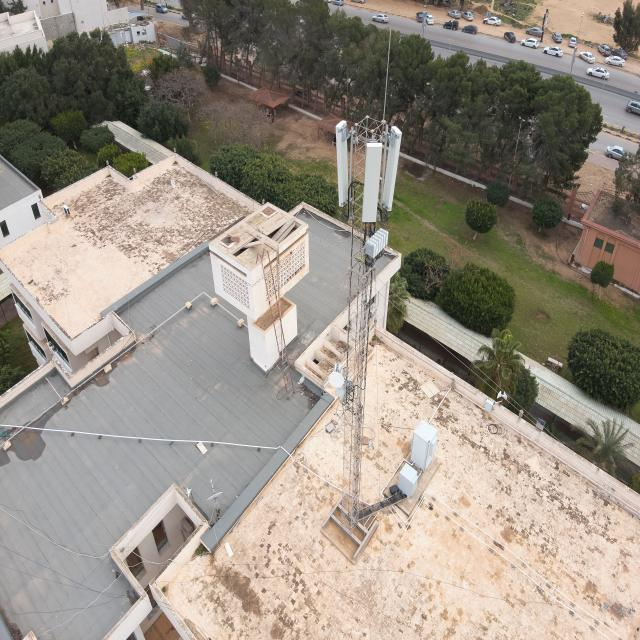antenna: (380, 124, 403, 215), (361, 141, 384, 226), (335, 118, 355, 207)
lighnig-rad: (382, 30, 392, 121)
microware-dish: (325, 359, 346, 394)
power-box: (336, 376, 356, 400)
radio-unit: (366, 225, 389, 267)
